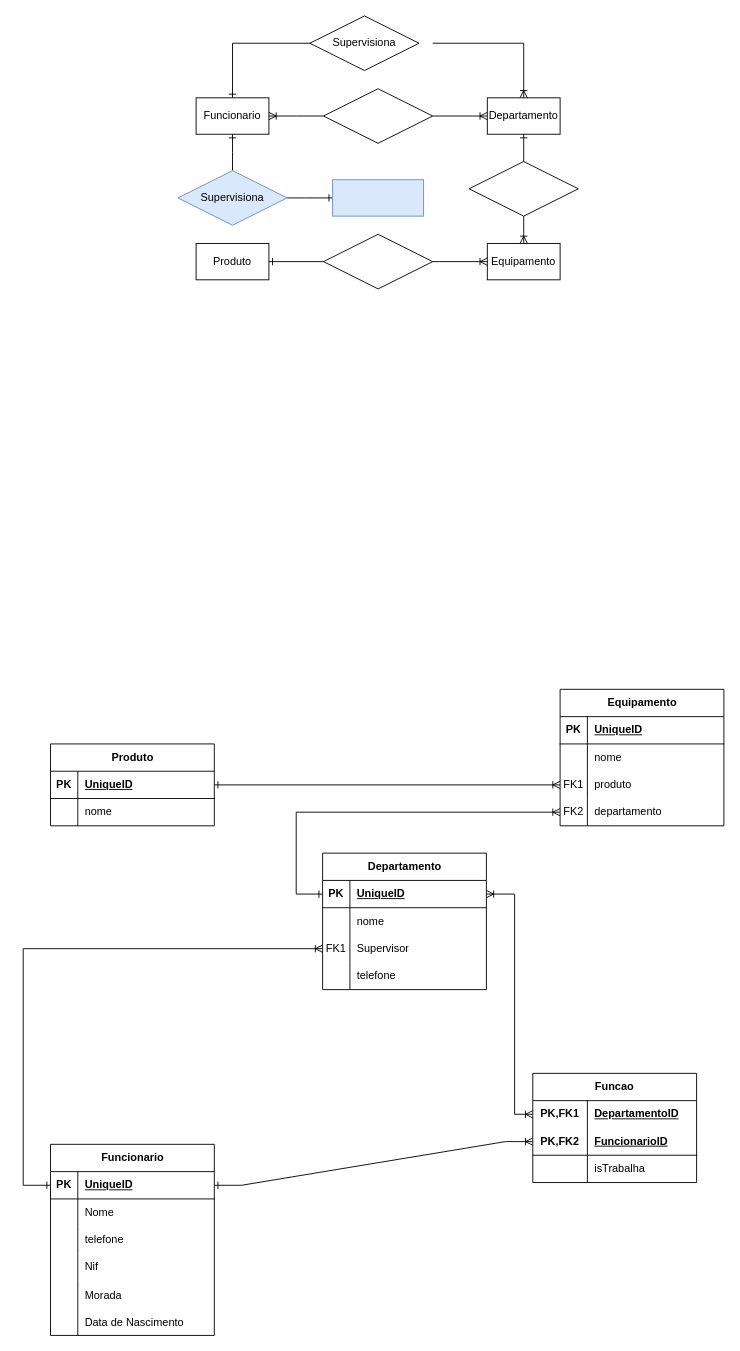
This 740x1351 diagram has some shape labels left out. Each missing label, with the centre of its shape:
"Categoria" goes at pixel 378 197.
"Existe" goes at pixel 523 188.
"Produzido" goes at pixel 378 261.
"Trabalha" goes at pixel 378 115.
